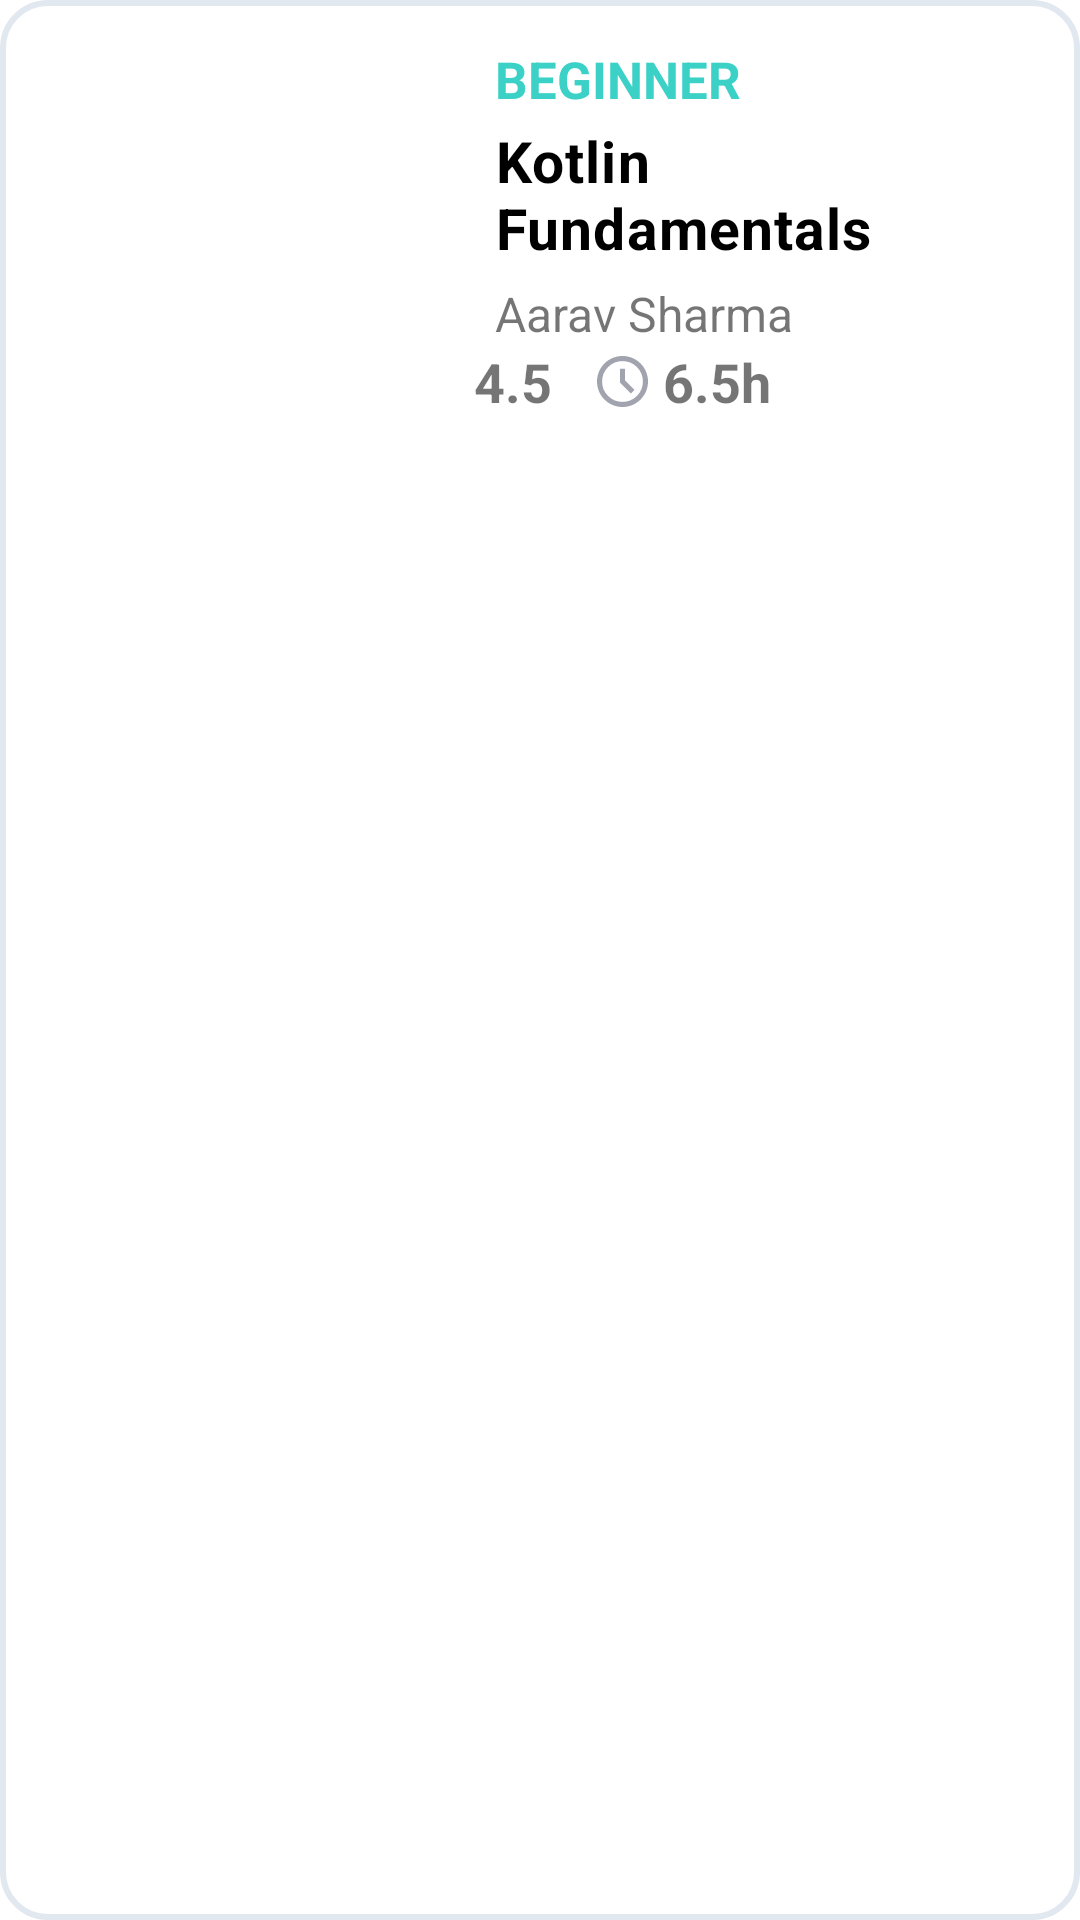

Screen size 1080×1920. Icon name, then its box in pixels as (x1, y1, x2, y2):
clock: (597, 356, 648, 407)
